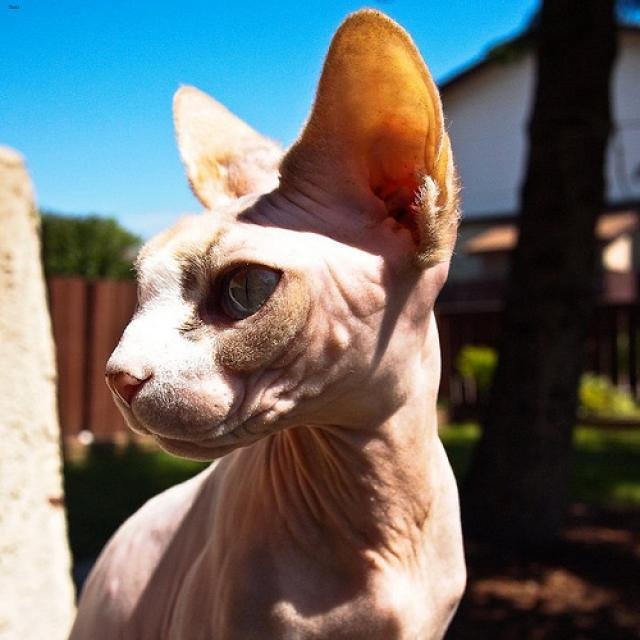Sphynx: (104, 7, 463, 468)
